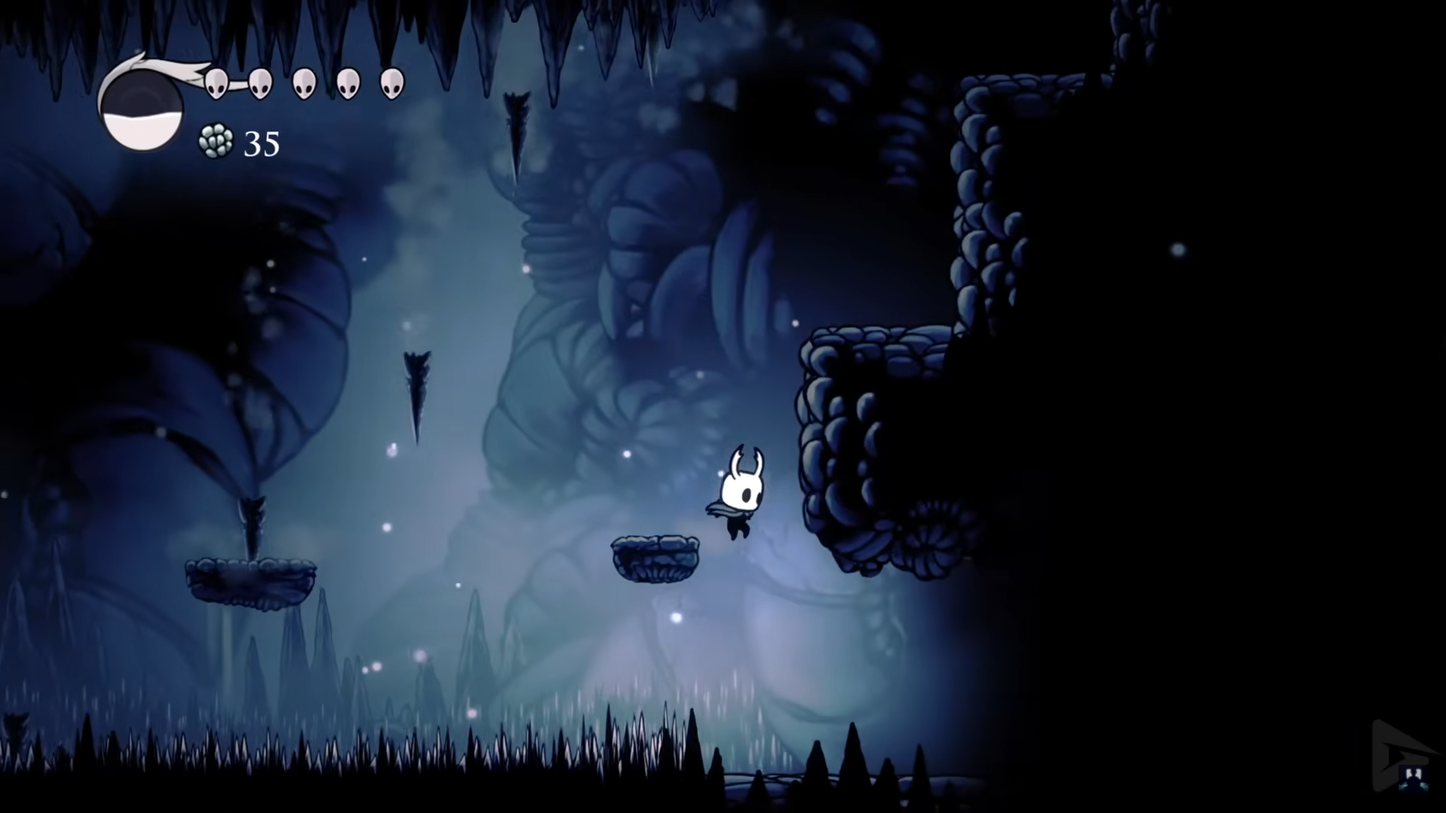HK: (706, 440, 770, 543)
